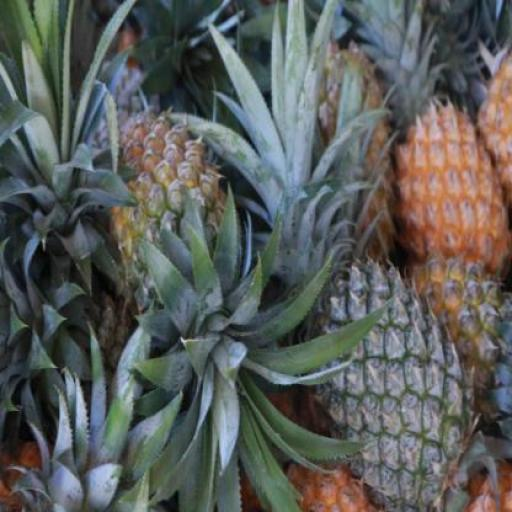------------------------------: (104, 107, 243, 318)
Pineapple - v8 v1: (398, 104, 510, 286)
